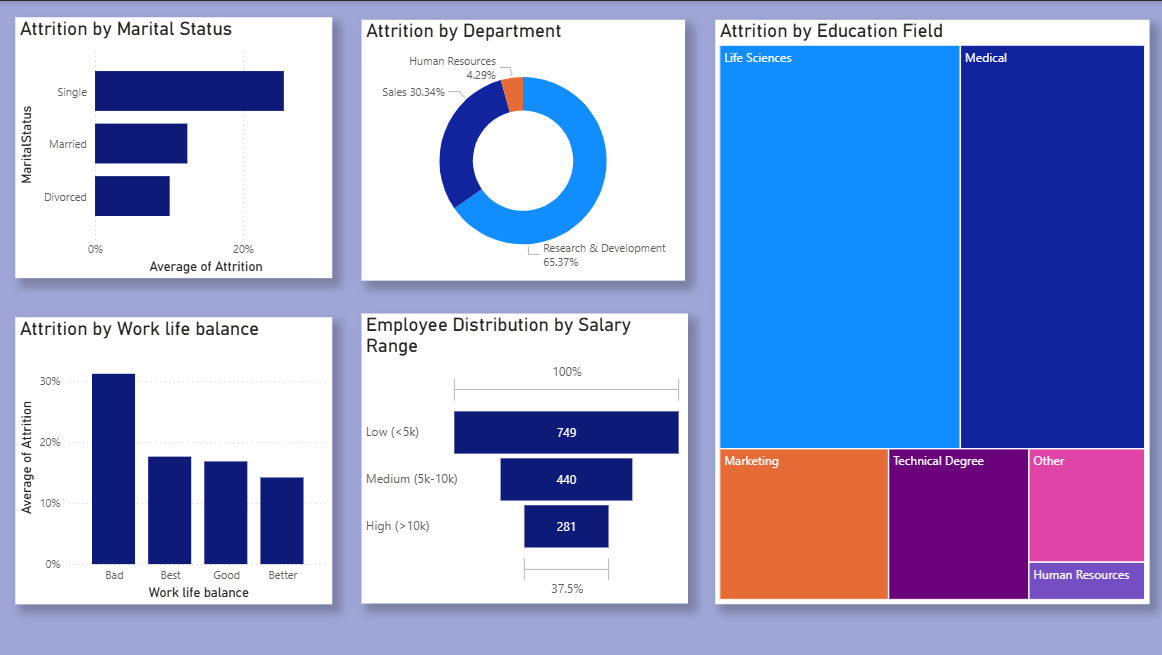

The dashboard page shown, as its layout file describes it:
{"tool":"powerbi","page":{"name":"Page 2","canvas":[1280,720],"ordinal":1},"visuals":[{"type":"donutChart","title":" Attrition by Department","fields":{"Category":["Cleaned Data.Department"],"Y":["CountNonNull(Cleaned Data.Attrition)"]},"box":[398.3,20,355,286.7],"z":0},{"type":"clusteredBarChart","title":"Attrition by Marital Status","fields":{"Category":["Cleaned Data.MaritalStatus"],"Y":["Avg(Cleaned Data.Attrition)"]},"box":[18.3,18.3,348.3,286.7],"z":1000},{"type":"funnel","title":"Employee Distribution by Salary Range","fields":{"Category":["Cleaned Data.Salary Range"],"Y":["CountNonNull(Cleaned Data.Age Group)"]},"box":[398.3,343.3,358.3,318.3],"z":2000},{"type":"clusteredColumnChart","title":"Attrition by Work life balance","fields":{"Category":["Cleaned Data.Work life balance"],"Y":["Avg(Cleaned Data.Attrition)"]},"box":[18.3,346.7,348.3,315],"z":3000},{"type":"treemap","title":" Attrition by Education Field","fields":{"Group":["Cleaned Data.EducationField"],"Values":["CountNonNull(Cleaned Data.Attrition)"]},"box":[786.7,20,476.7,641.7],"z":4000}]}

Visuals, with their boxes in screenshot pixels (x1, y1, x2, y2), scaled from the page's 1280x720 canvas onto the 1162x655 screenshot:
" Attrition by Department" donutChart: <bbox>362, 18, 684, 279</bbox>
"Attrition by Marital Status" clusteredBarChart: <bbox>17, 17, 333, 277</bbox>
"Employee Distribution by Salary Range" funnel: <bbox>362, 312, 687, 602</bbox>
"Attrition by Work life balance" clusteredColumnChart: <bbox>17, 315, 333, 602</bbox>
" Attrition by Education Field" treemap: <bbox>714, 18, 1147, 602</bbox>
